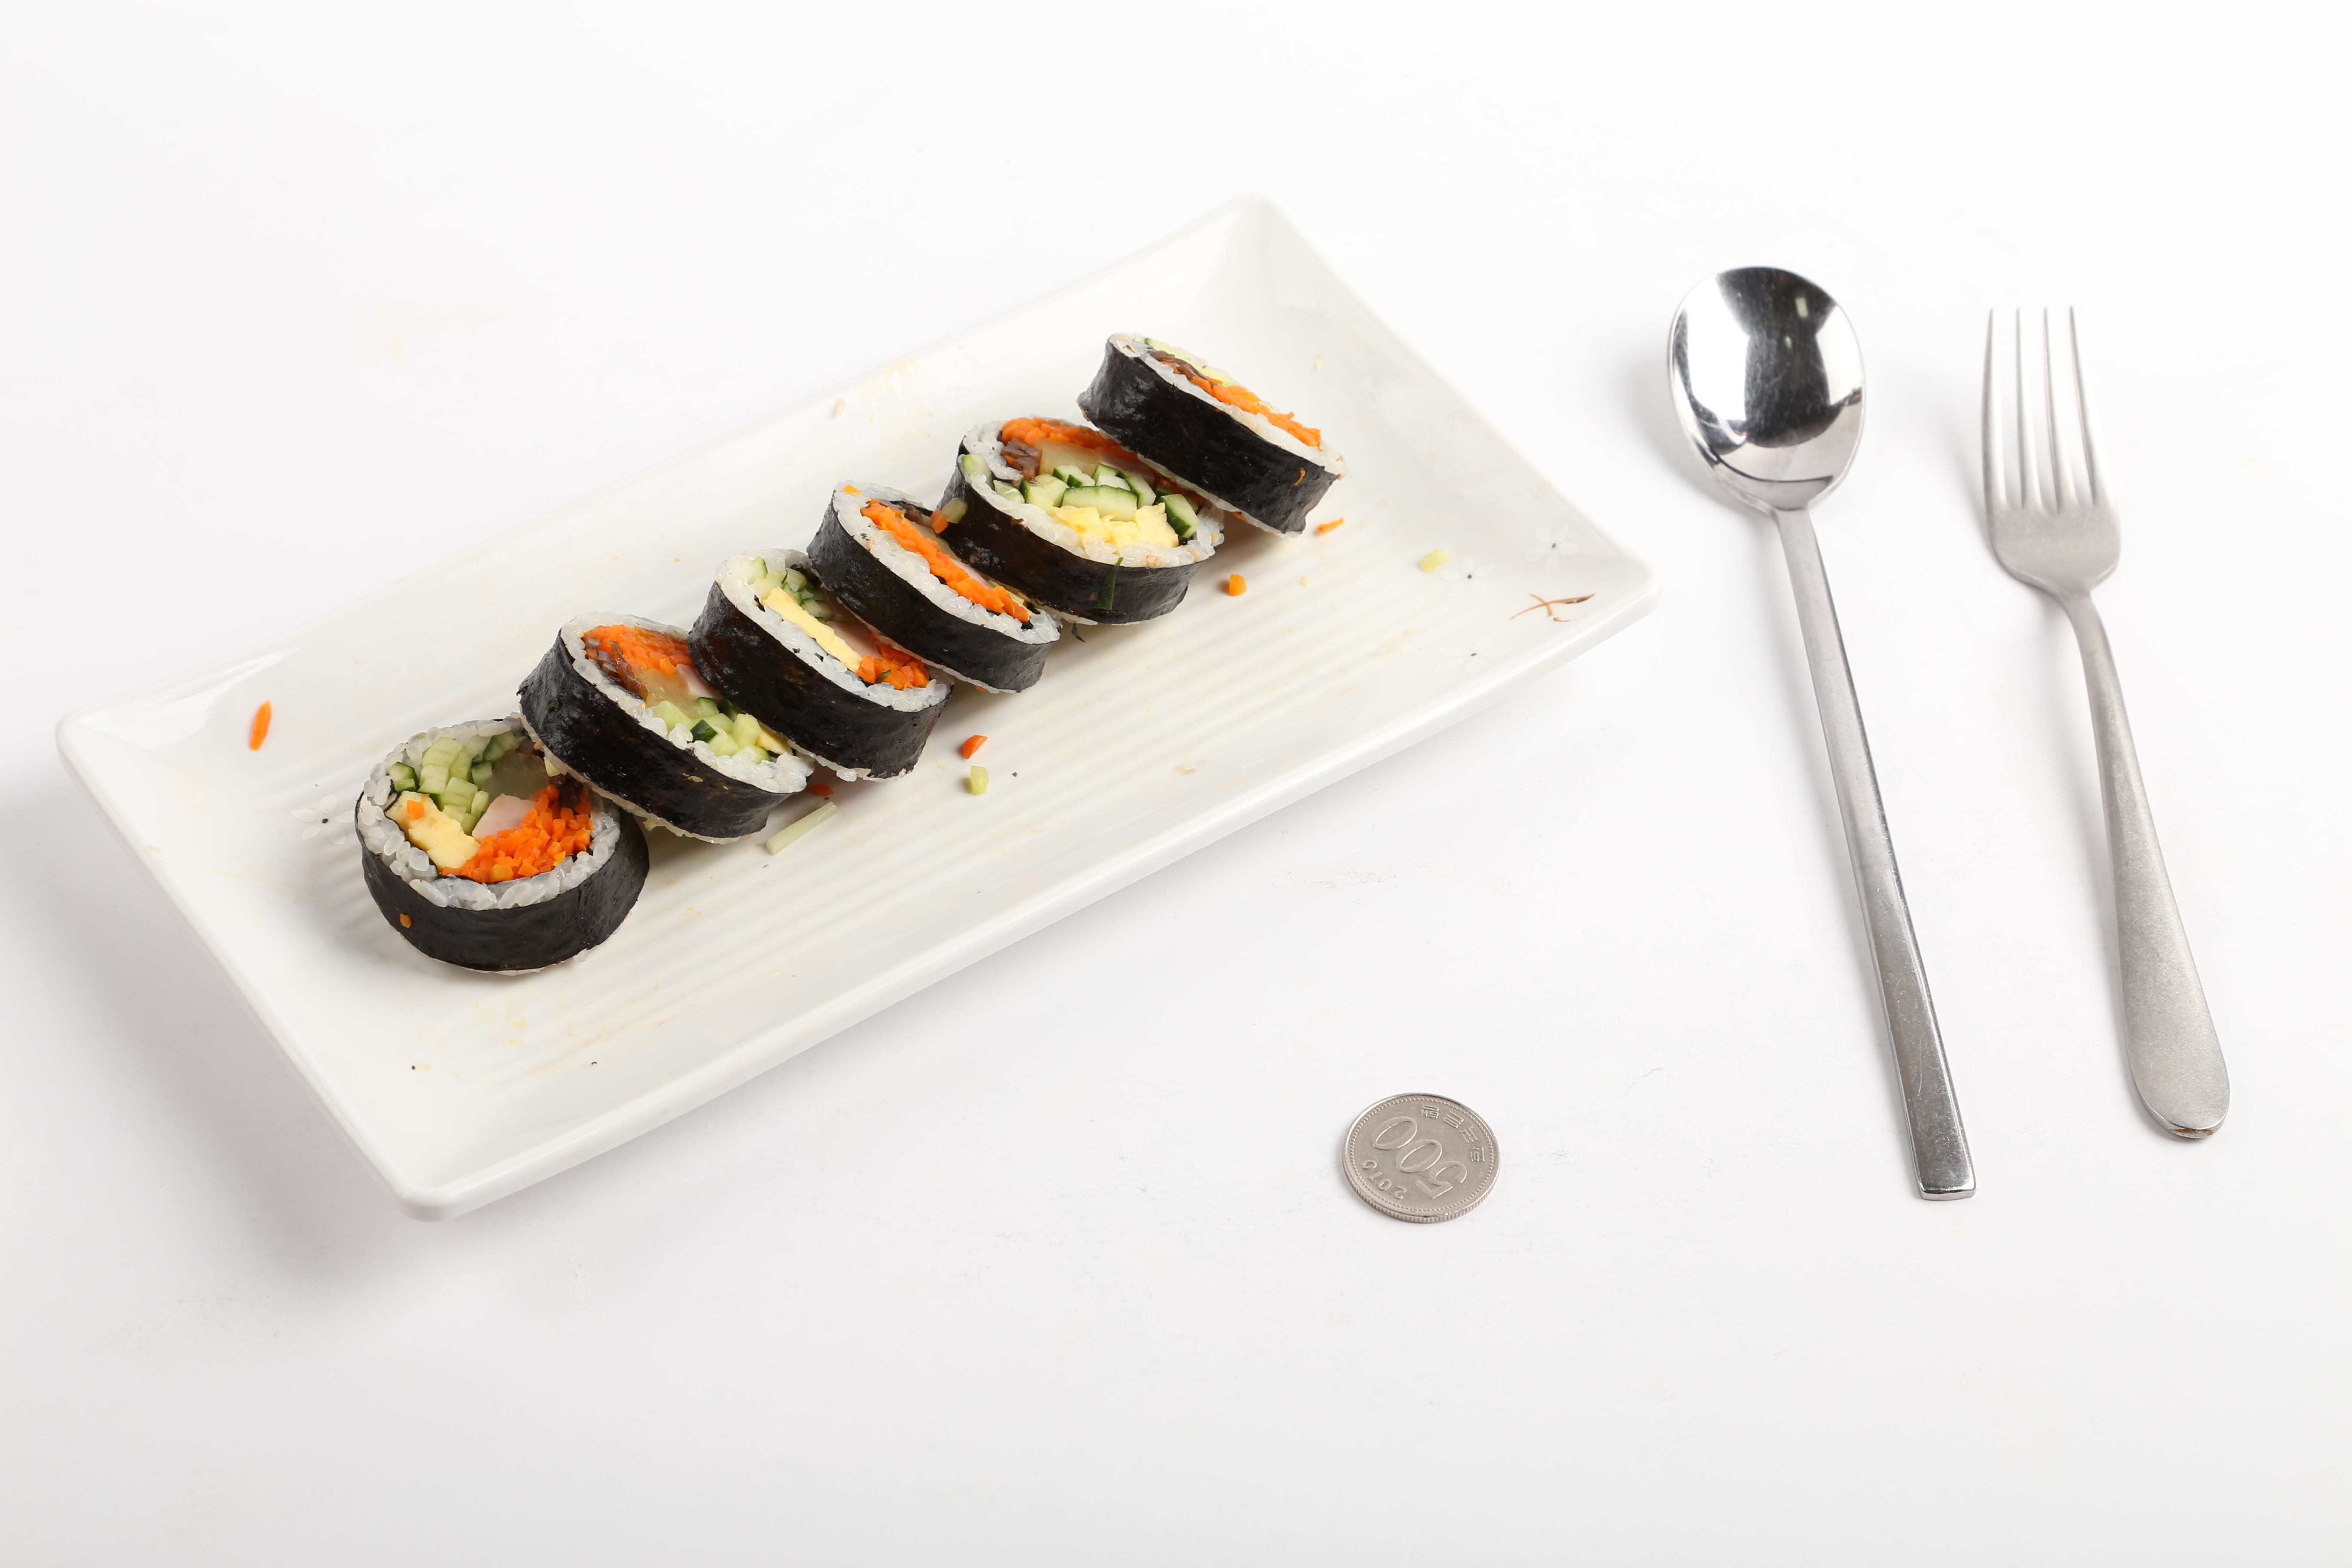dish: (52, 187, 1657, 1218)
ref_coin: (1332, 1078, 1505, 1228)
ref_fork: (1969, 306, 2117, 658)
ref_spoon: (1666, 262, 1869, 614)
김밥: (346, 331, 1337, 980)
